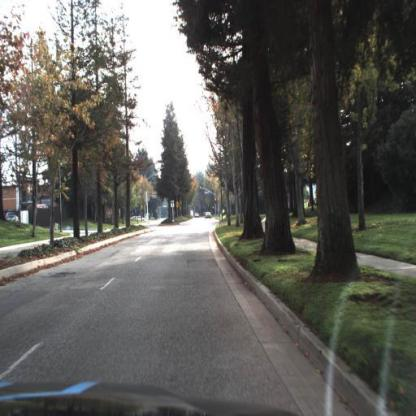car: (207, 213, 212, 220), (196, 213, 200, 219)
trafficLight-Red: (215, 198, 218, 205), (201, 187, 202, 193)
